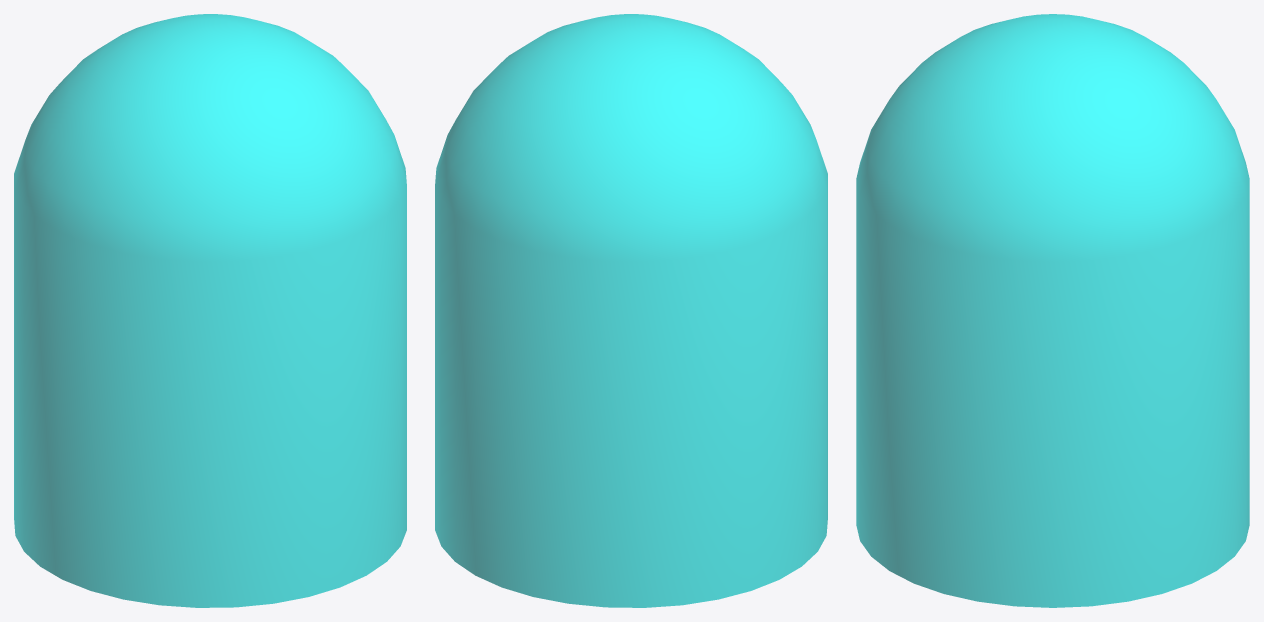
File: noBreak.glb
3 renders of one model, left to right at view 1: azimuth 30°, elevation 25°; view 2: azimuth 150°, elevation 25°; view 3: azimuth 270°, elevation 25°, orthographic.
Visible parts, largest first — view 1: Sphere001; view 2: Sphere001; view 3: Sphere001.
Part boxes in pixels (x1,y1,x2,y2): Sphere001: [14, 14, 406, 607]; Sphere001: [435, 14, 827, 607]; Sphere001: [856, 14, 1249, 607].
Size of the model in its own units: 1.15 by 1.59 by 1.15.
